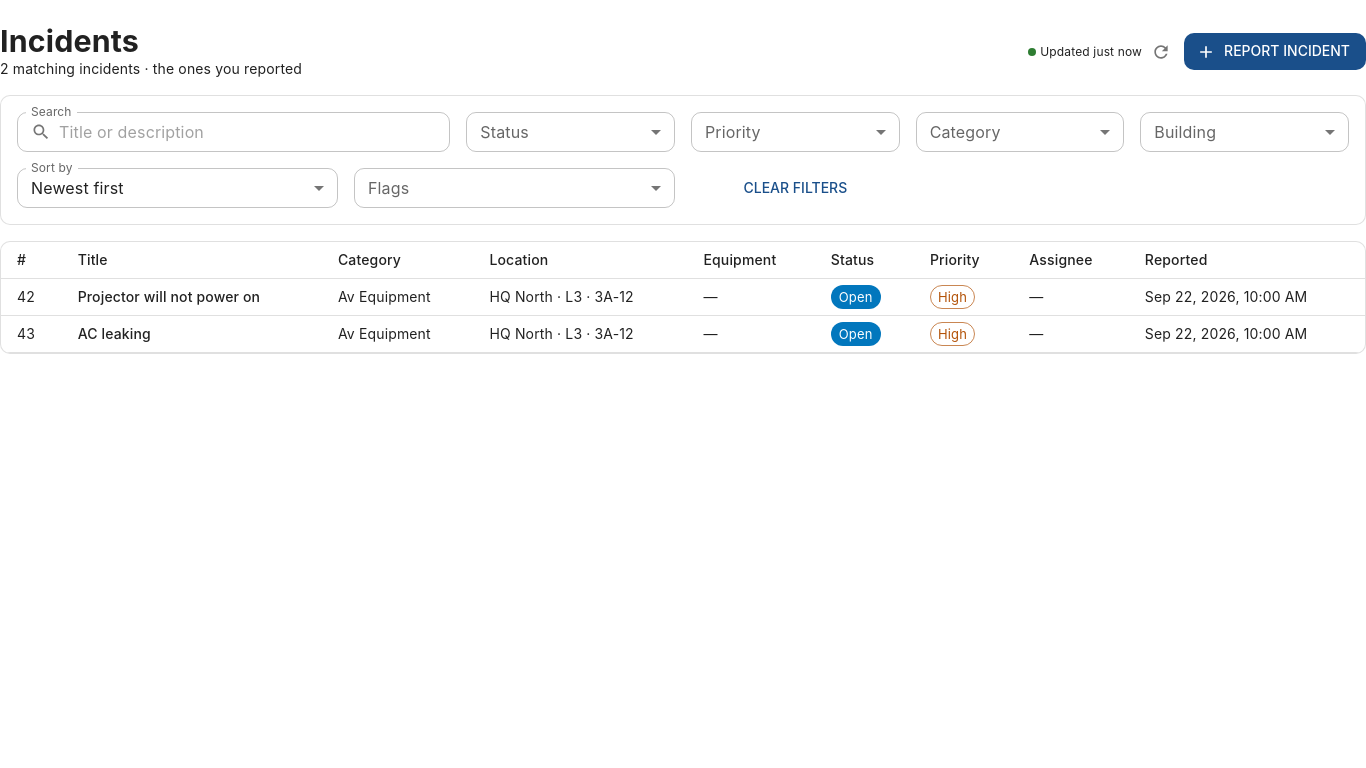
Test: reporting an incident › requires a title and a description before submitting
The width and height of the screenshot is (1366, 768).
Expected: the text "Projector will not power on" is shown, [78,288,260,308]
Click the button "Report incident".
click(1275, 52)  # box [1184,34,1365,70]
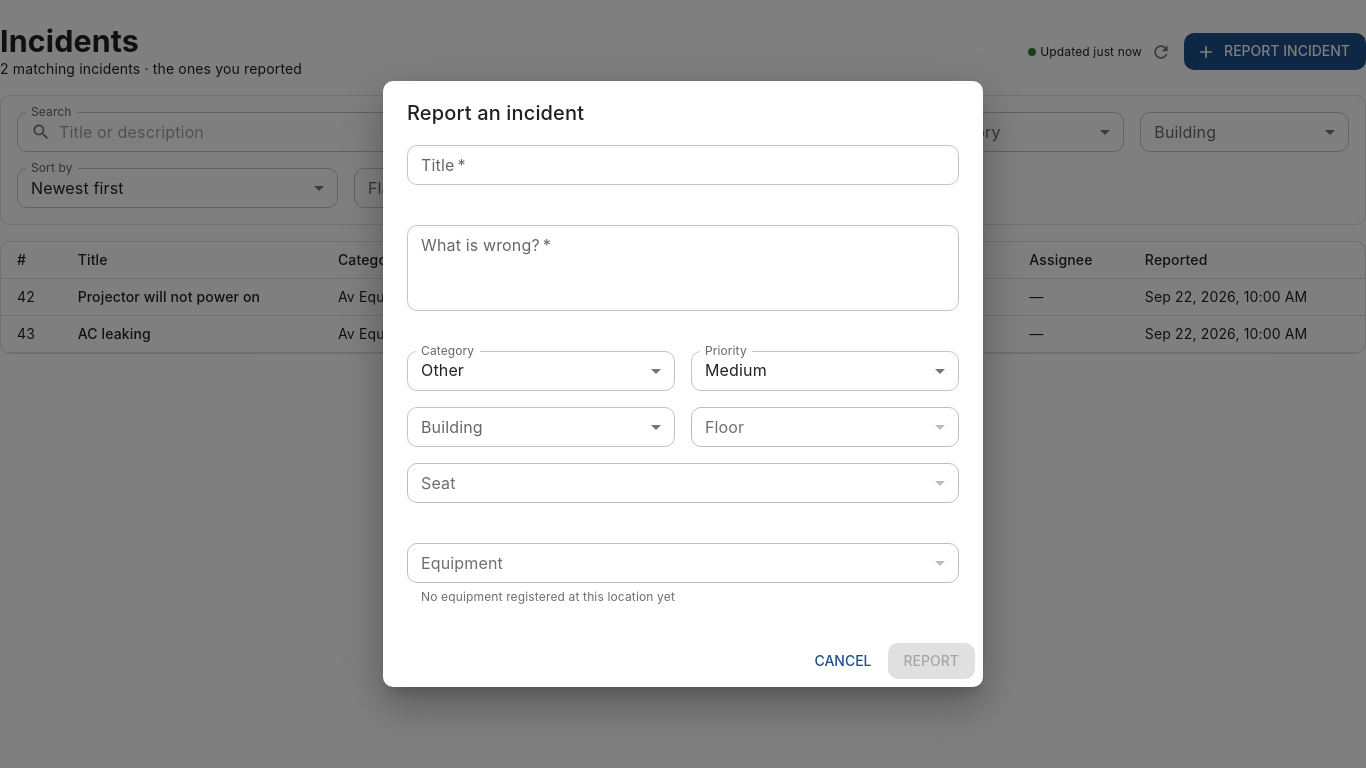
Expected: the button "Report" is disabled, [888,643,975,679]
Type "Desk light flickering" into the field labelled "Title *".
click(683, 165); type("Desk light flickering")  # box [407,145,959,185]
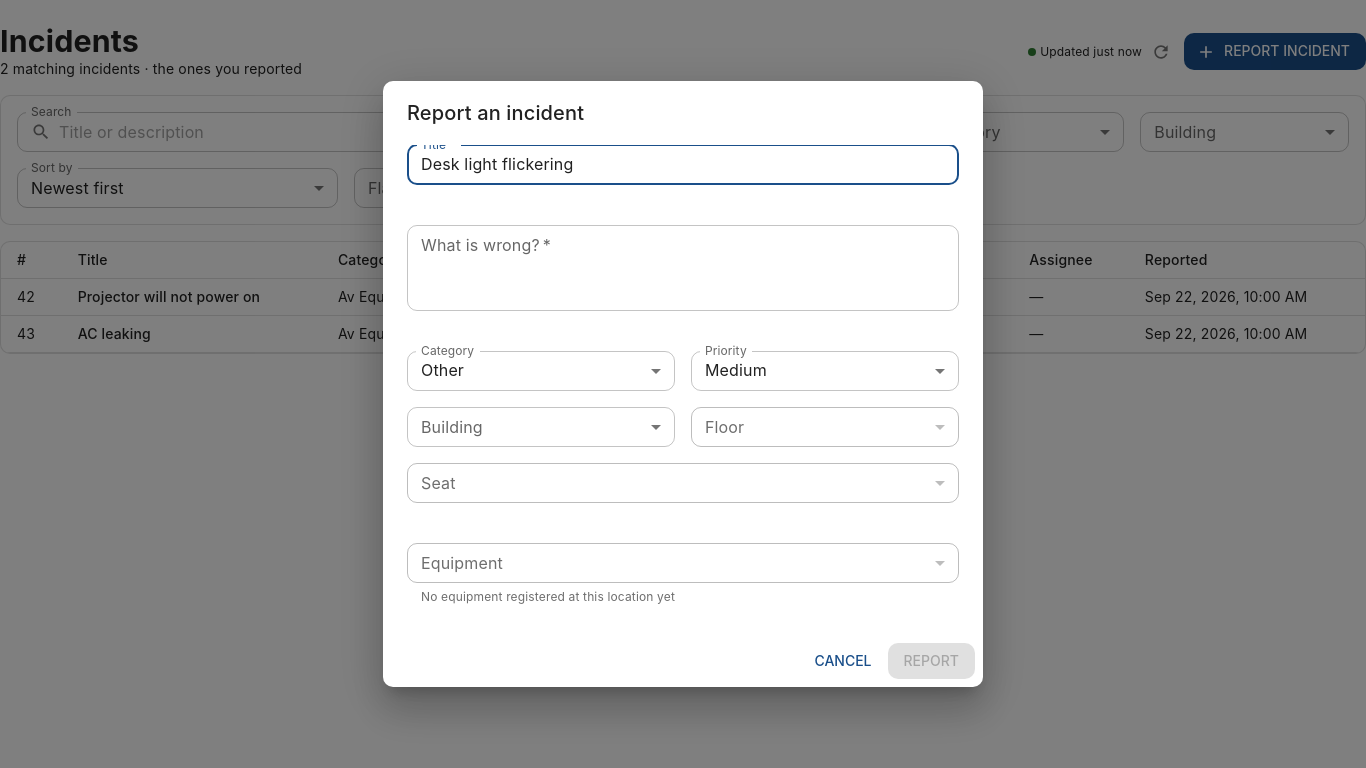
Expected: the button "Report" is disabled, [888,643,975,679]
Type "It flickers all afternoon." into the text box labelled "What is wrong? *".
click(683, 268); type("It flickers all afternoon.")  # box [421,233,945,302]
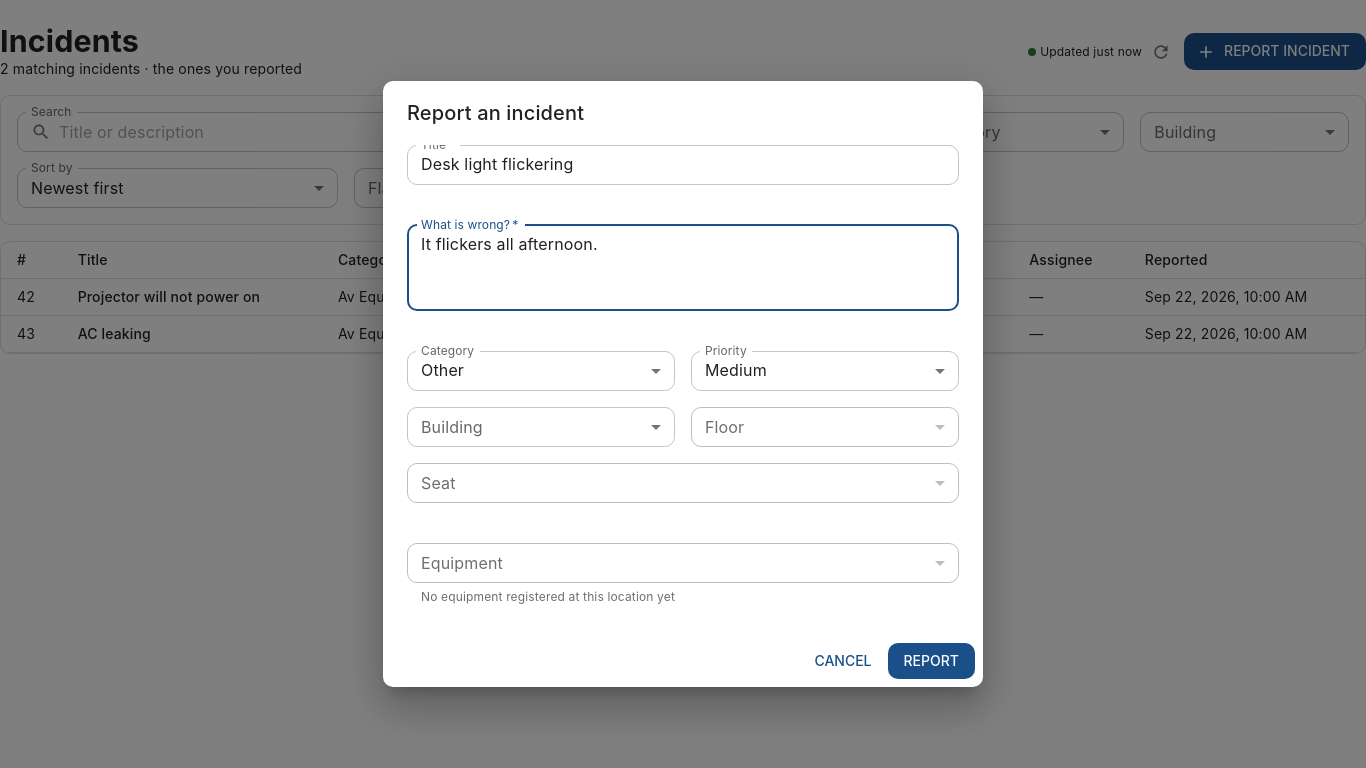
Expected: the button "Report" is enabled, [888,643,975,679]
